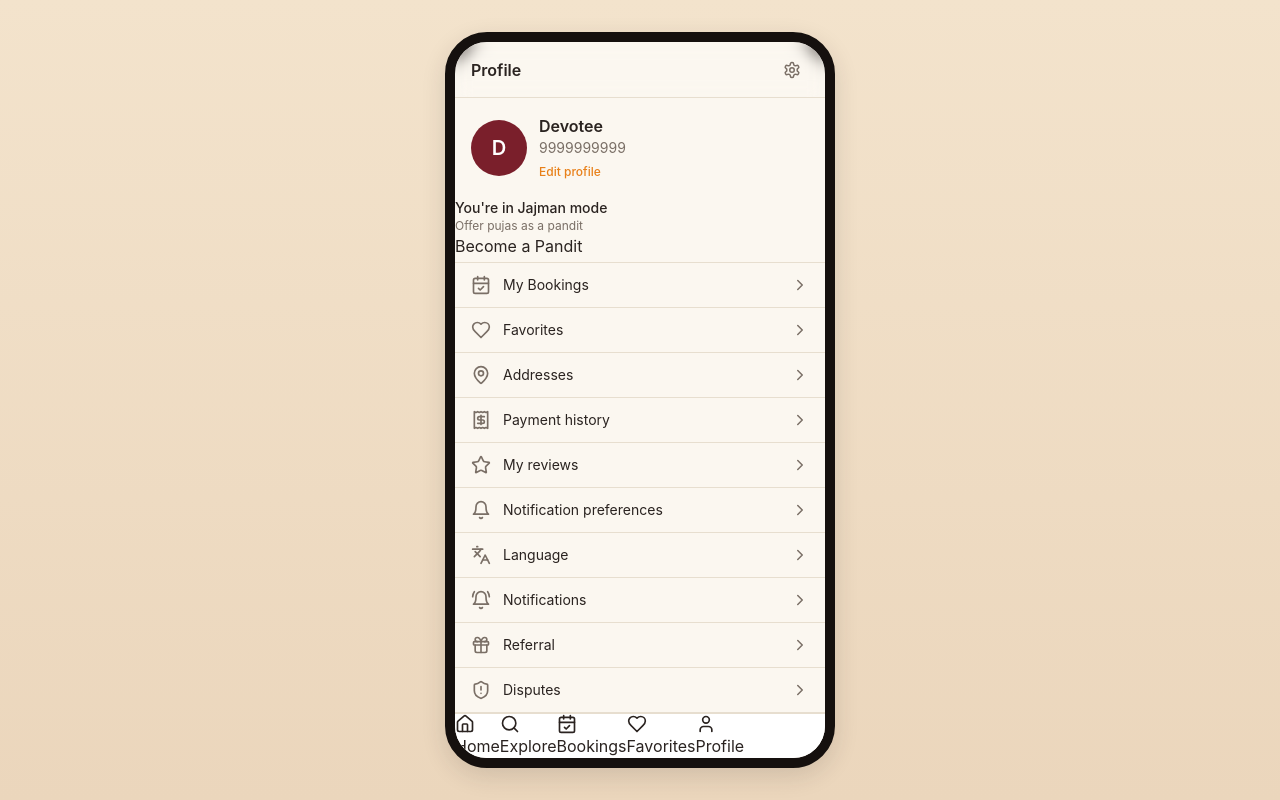
Test case: profile flow (integration) › Profile tab → Addresses shows the saved addresses
This screenshot has width=1280, height=800.
Click the button "Addresses".
click(538, 374)  # box [455,352,825,397]
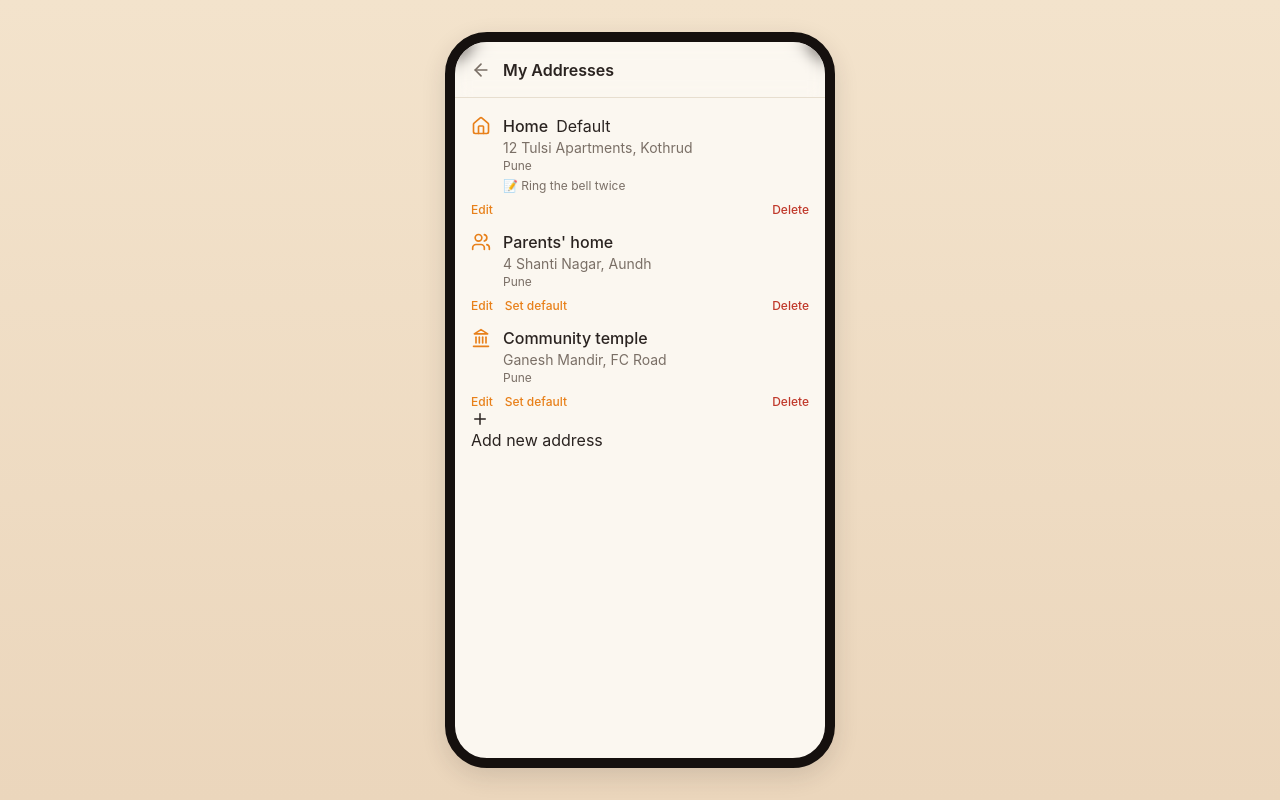
Now the text "My Addresses" is shown, box [503,60,614,80]
Now the text "Community temple" is shown, box [503,326,648,350]
